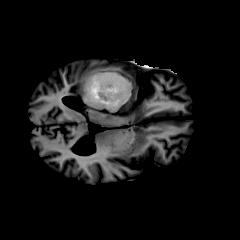glioma: (75, 70, 139, 114)
